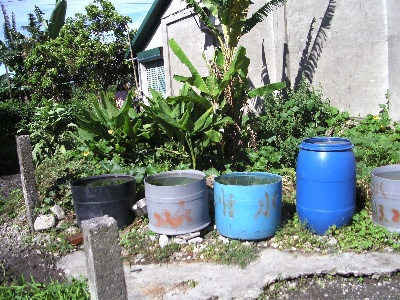bucket: (295, 135, 359, 237), (211, 170, 287, 243), (141, 169, 213, 237), (68, 170, 141, 236), (367, 162, 400, 235)
